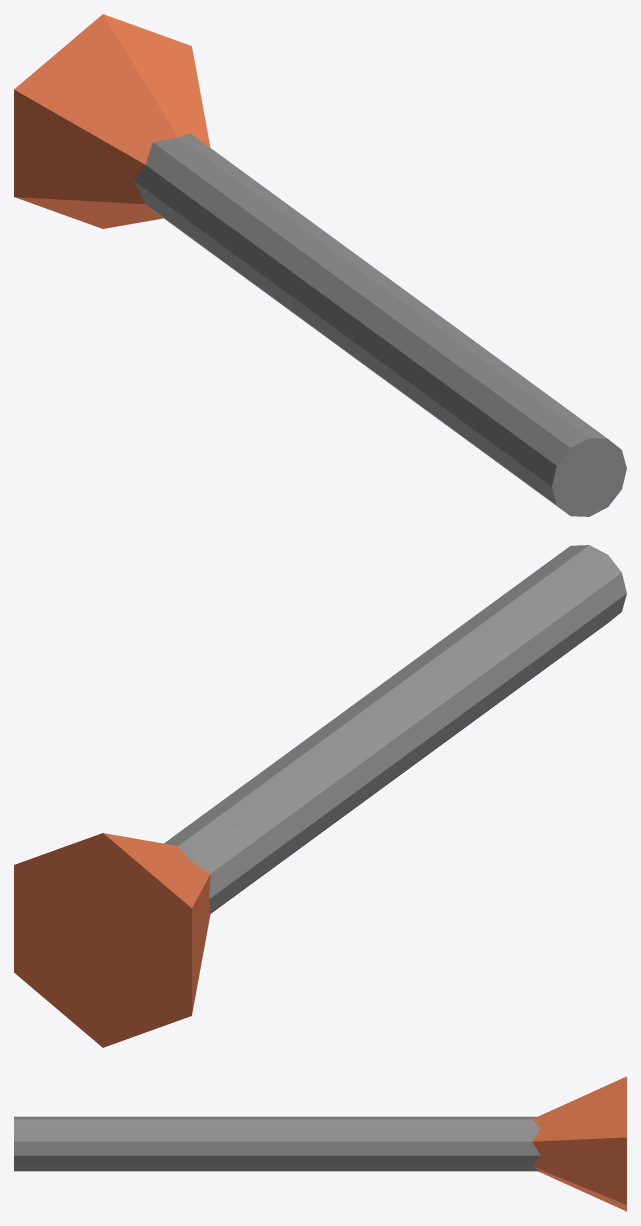
File: flamethrower.glb
3 views of the same model, one above another, from view 1: azimuth 30°, elevation 25°; view 2: azimuth 150°, elevation 25°; view 3: azimuth 270°, elevation 25° (orthographic). The views are drawn at different scales.
Parts seen in each view (by area): view 1: Cylinder, Cone; view 2: Cylinder, Cone; view 3: Cylinder, Cone.
Part boxes in pixels (<box>): Cylinder: <box>134,133,626,516</box>; Cone: <box>14,14,210,228</box>; Cylinder: <box>164,545,626,913</box>; Cone: <box>14,833,210,1047</box>; Cylinder: <box>14,1116,540,1171</box>; Cone: <box>532,1076,626,1211</box>.
Size of the model in its own units: 0.433 by 0.5 by 2.05.
